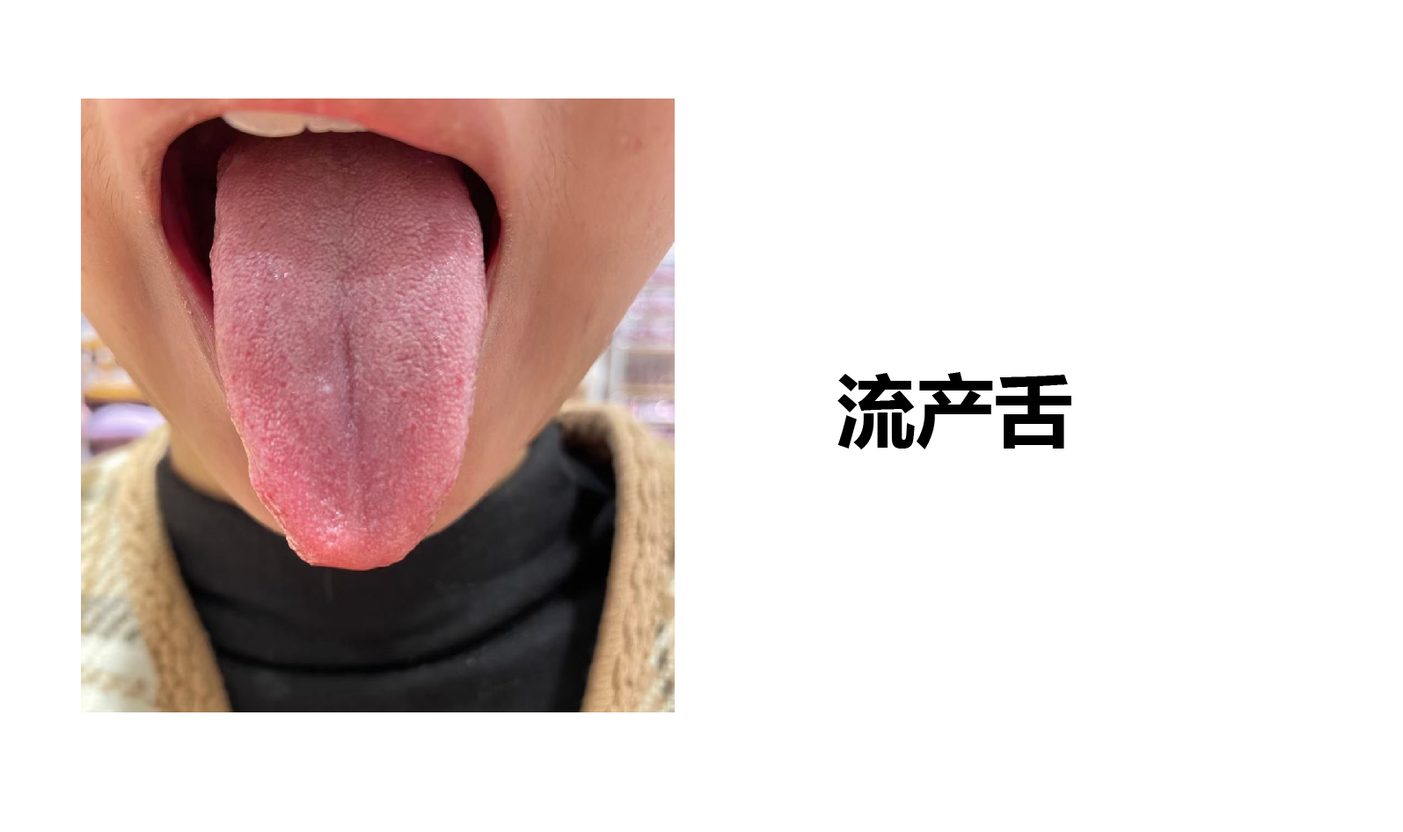hongdianshe: (398, 374, 465, 433)
zishe: (209, 137, 488, 570)
